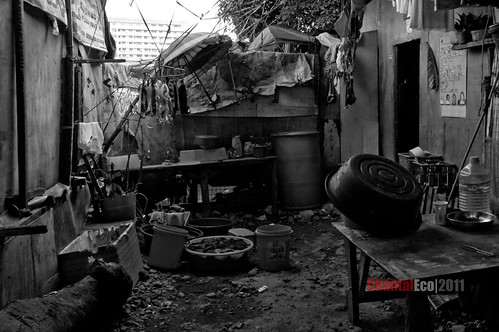trash: (1, 1, 499, 332)
